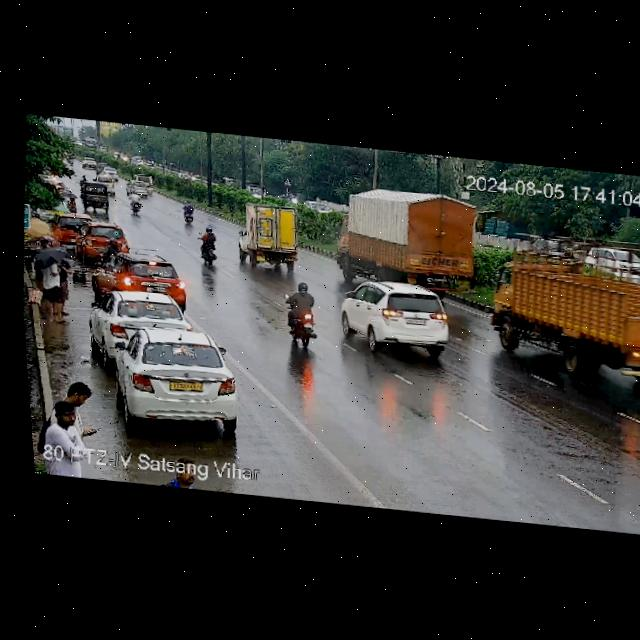car: (93, 320, 250, 432), (333, 276, 462, 362), (89, 286, 191, 353), (99, 253, 190, 300), (74, 221, 131, 257), (50, 208, 96, 245), (78, 179, 115, 211), (124, 179, 155, 196), (101, 164, 120, 181), (80, 157, 103, 171)
motorcycle: (276, 282, 326, 349), (195, 226, 224, 267), (175, 200, 204, 225), (125, 193, 150, 215)
person: (38, 406, 87, 477), (37, 272, 73, 321), (26, 235, 56, 284), (60, 378, 93, 406)
truck: (484, 240, 640, 380), (334, 182, 498, 297), (230, 198, 311, 271), (85, 136, 99, 150)
